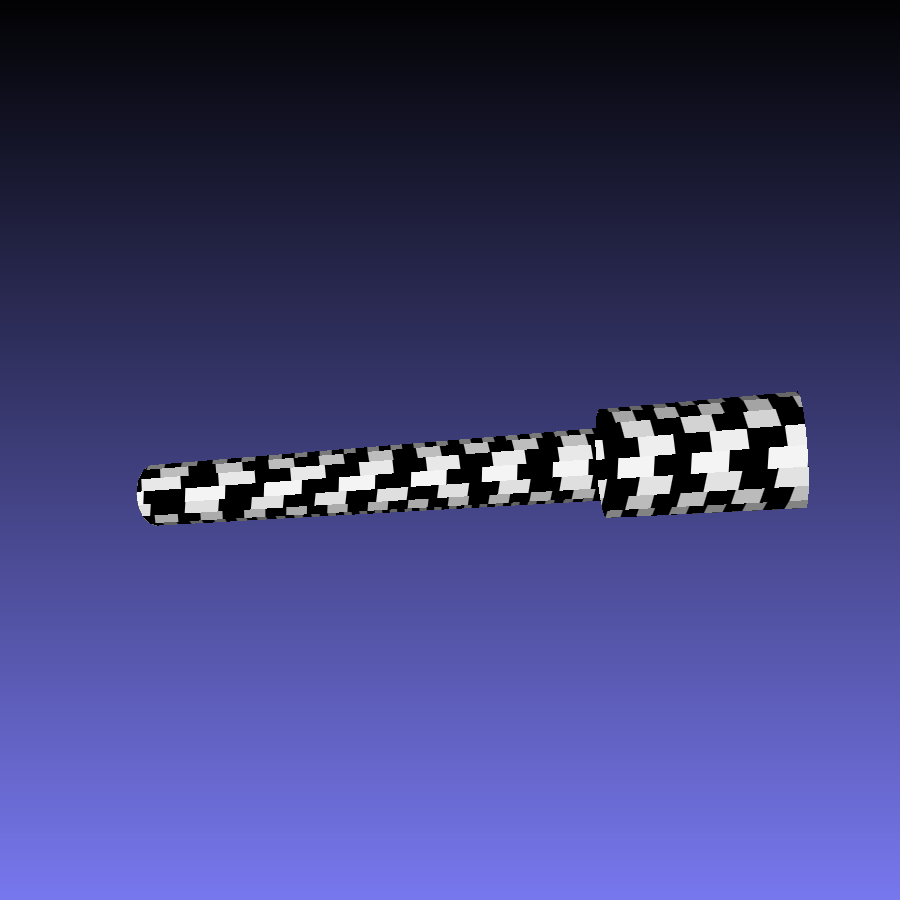cargo_g: (137, 385, 811, 533)
